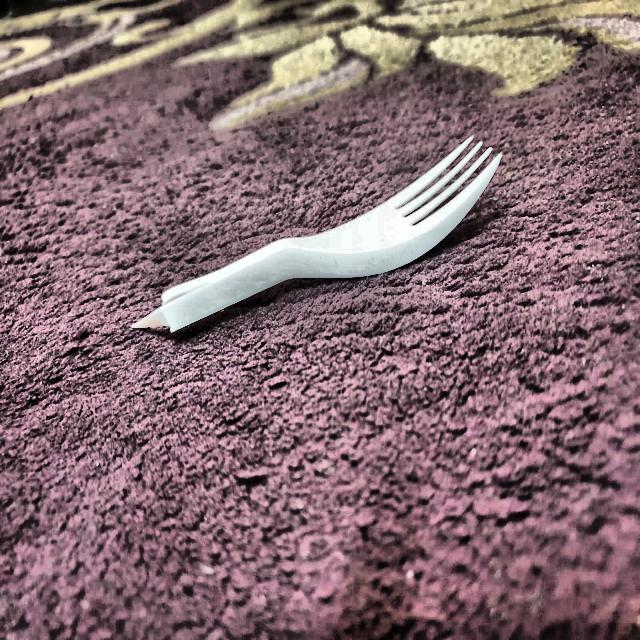plastic utensil: (124, 131, 510, 353)
